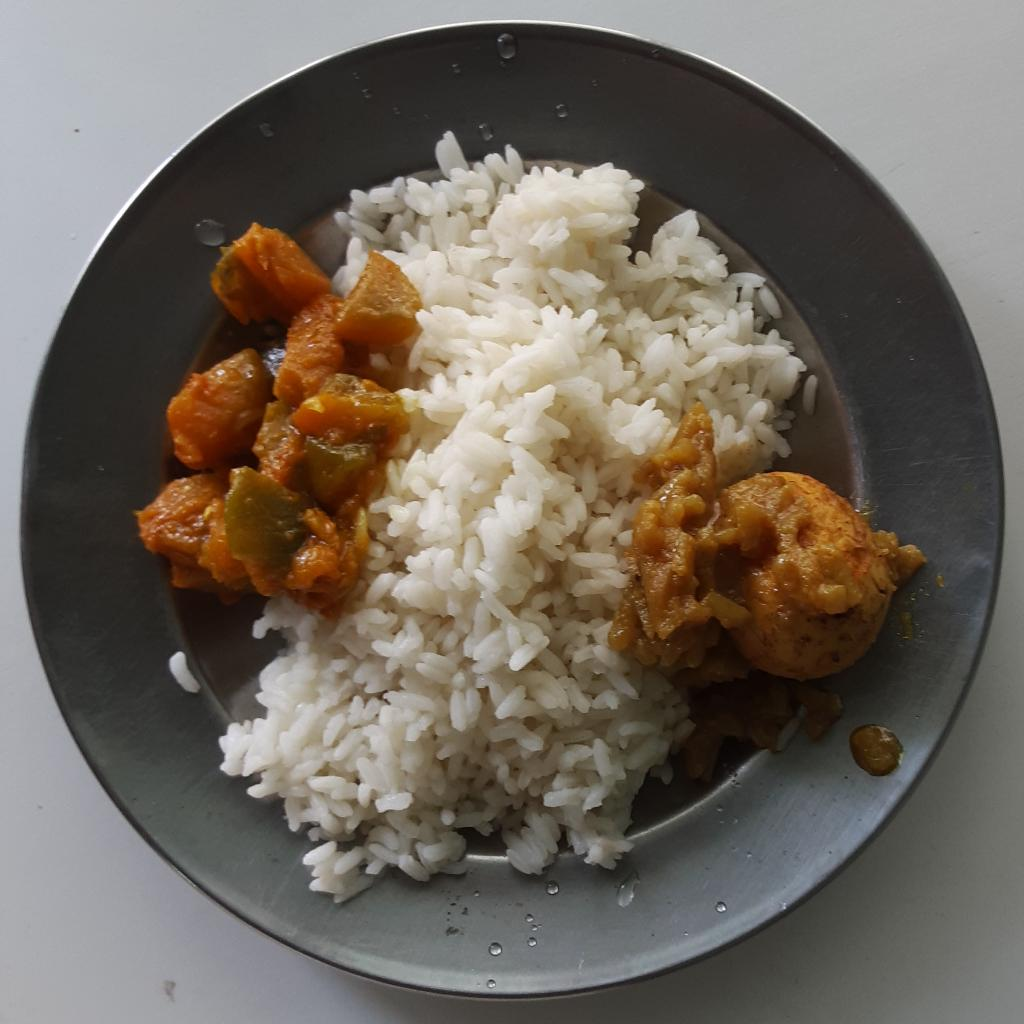egg-boiled: (713, 469, 922, 684)
kumra-vaji: (132, 227, 419, 606)
potato: (615, 400, 843, 783)
rice: (223, 125, 816, 906)
